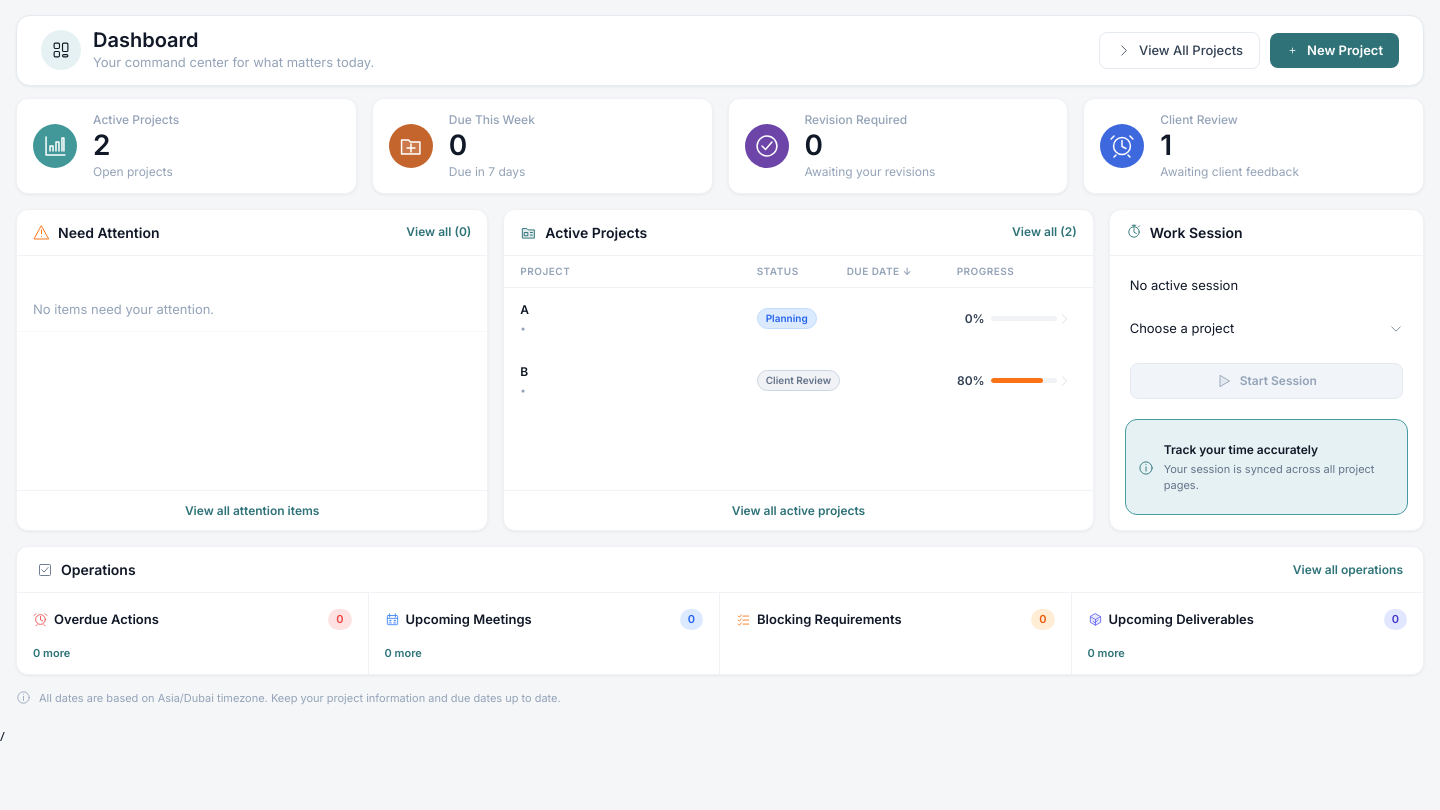
Test case: opens the Upcoming Meetings group from its heading even when empty
Click the button "Upcoming Meetings": coordinates (469, 619) [406,610,532,629]
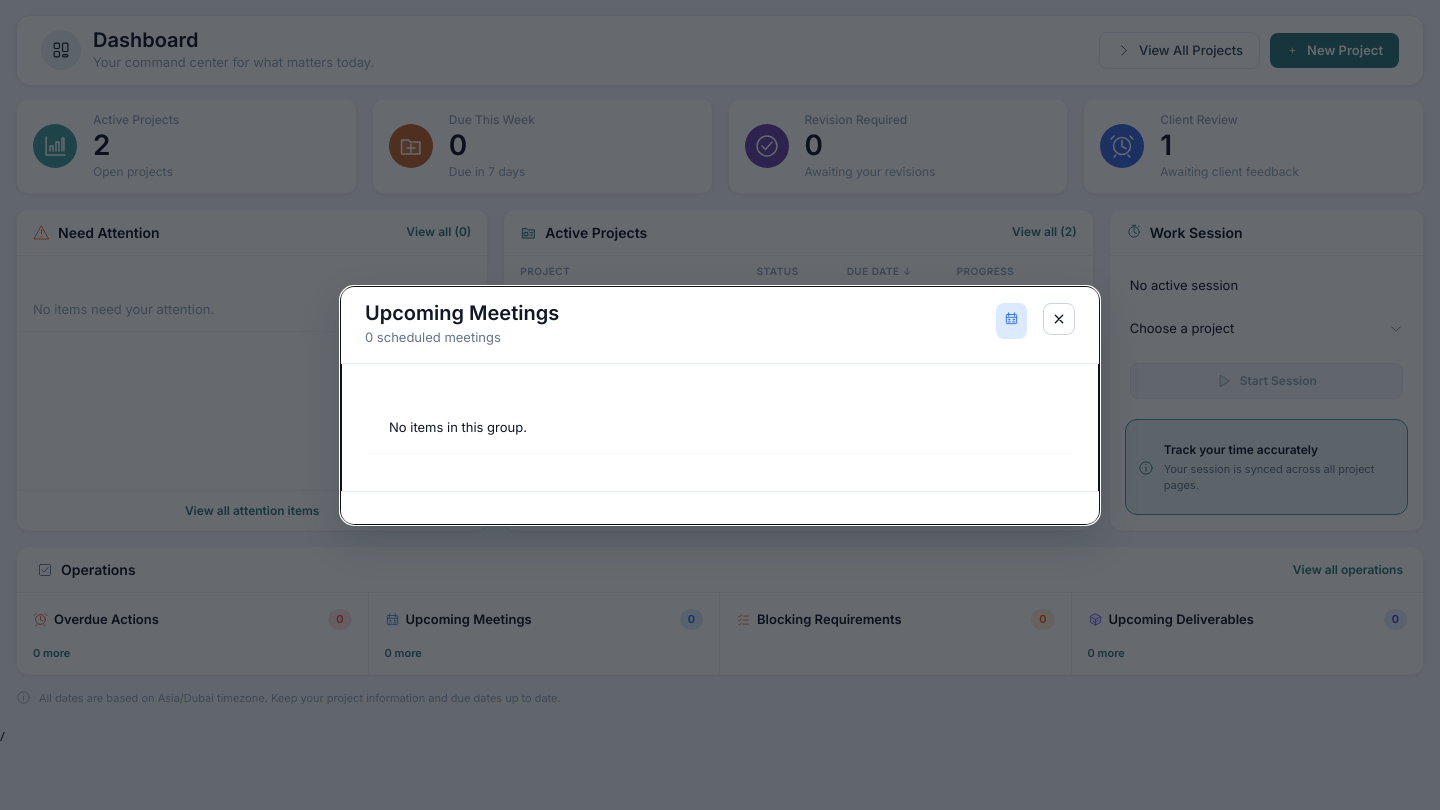
Expected: the text "No items in this group." is shown, [365,400,1075,454]
